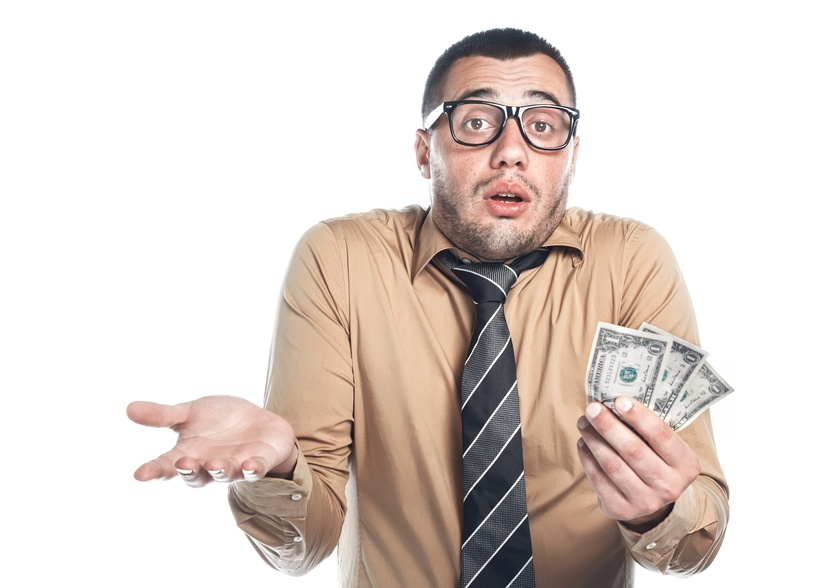confused: (412, 64, 592, 257)
